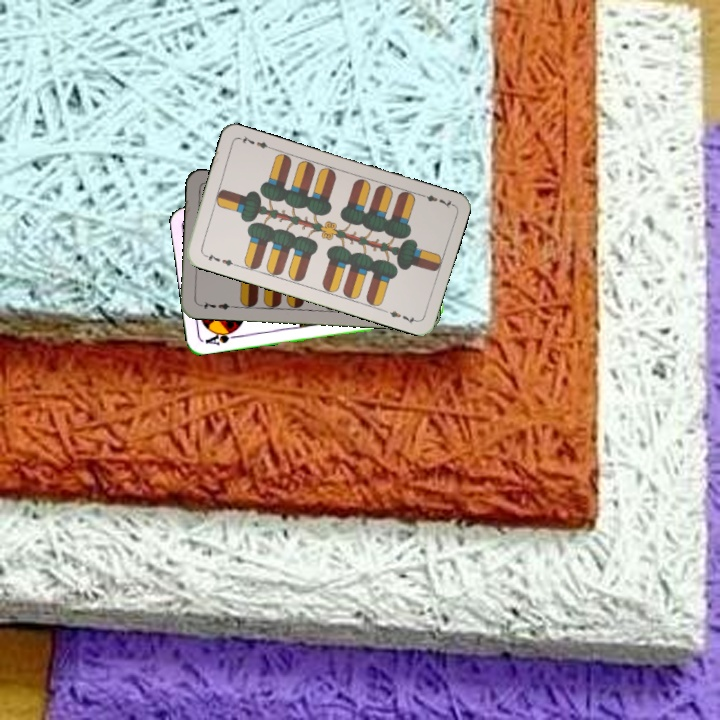E7: (415, 190, 455, 211), (199, 249, 239, 269), (195, 298, 236, 312)
SA: (201, 325, 241, 348)
